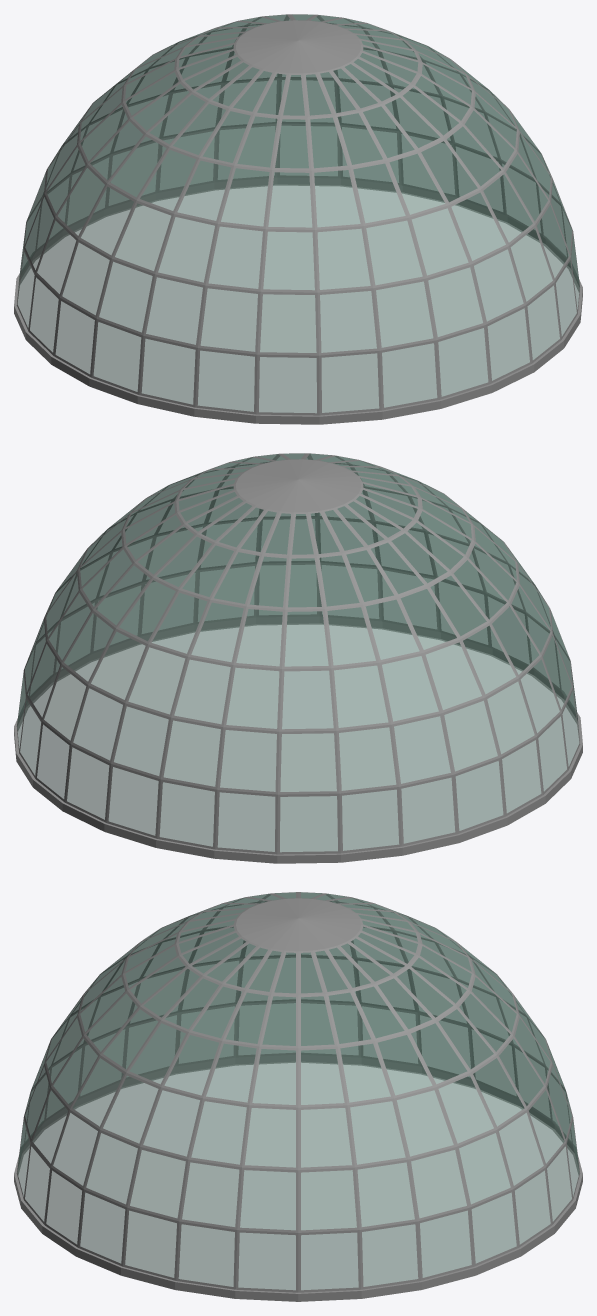
The model's file is Simple+Glass+Atrium+Dome.fbx.
The picture shows the model from 3 angles, top to bottom: view 1: azimuth 30°, elevation 25°; view 2: azimuth 150°, elevation 25°; view 3: azimuth 270°, elevation 25°; orthographic projection.
Visible parts, largest first — view 1: Sphere; view 2: Sphere; view 3: Sphere.
Boxes of the visible parts, left/top/right/bottom form: Sphere: left=14, top=14, right=582, bottom=424; Sphere: left=14, top=453, right=582, bottom=863; Sphere: left=14, top=892, right=582, bottom=1301.
Size of the model in its own units: 202 by 103 by 202.
